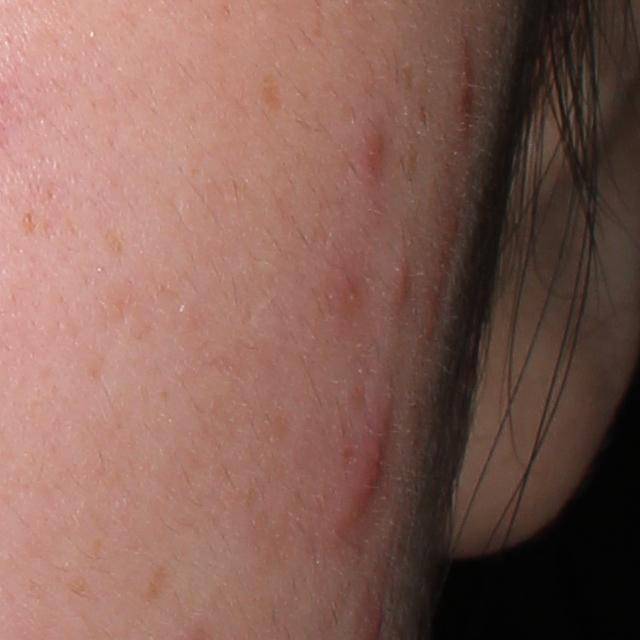melasma: (256, 69, 290, 115)
papule: (341, 415, 395, 529), (453, 32, 478, 130), (358, 123, 389, 178), (385, 256, 412, 315)
